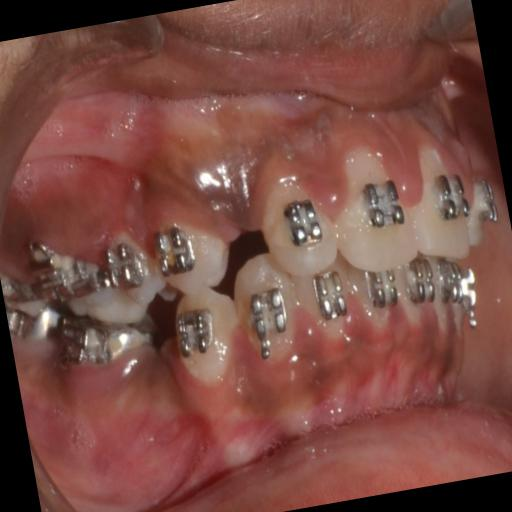correct_brace: (164, 282, 248, 396), (145, 208, 234, 300), (350, 172, 412, 238), (169, 300, 224, 366), (276, 190, 327, 258)
incorrect_brace: (248, 169, 344, 283), (146, 218, 204, 286)
